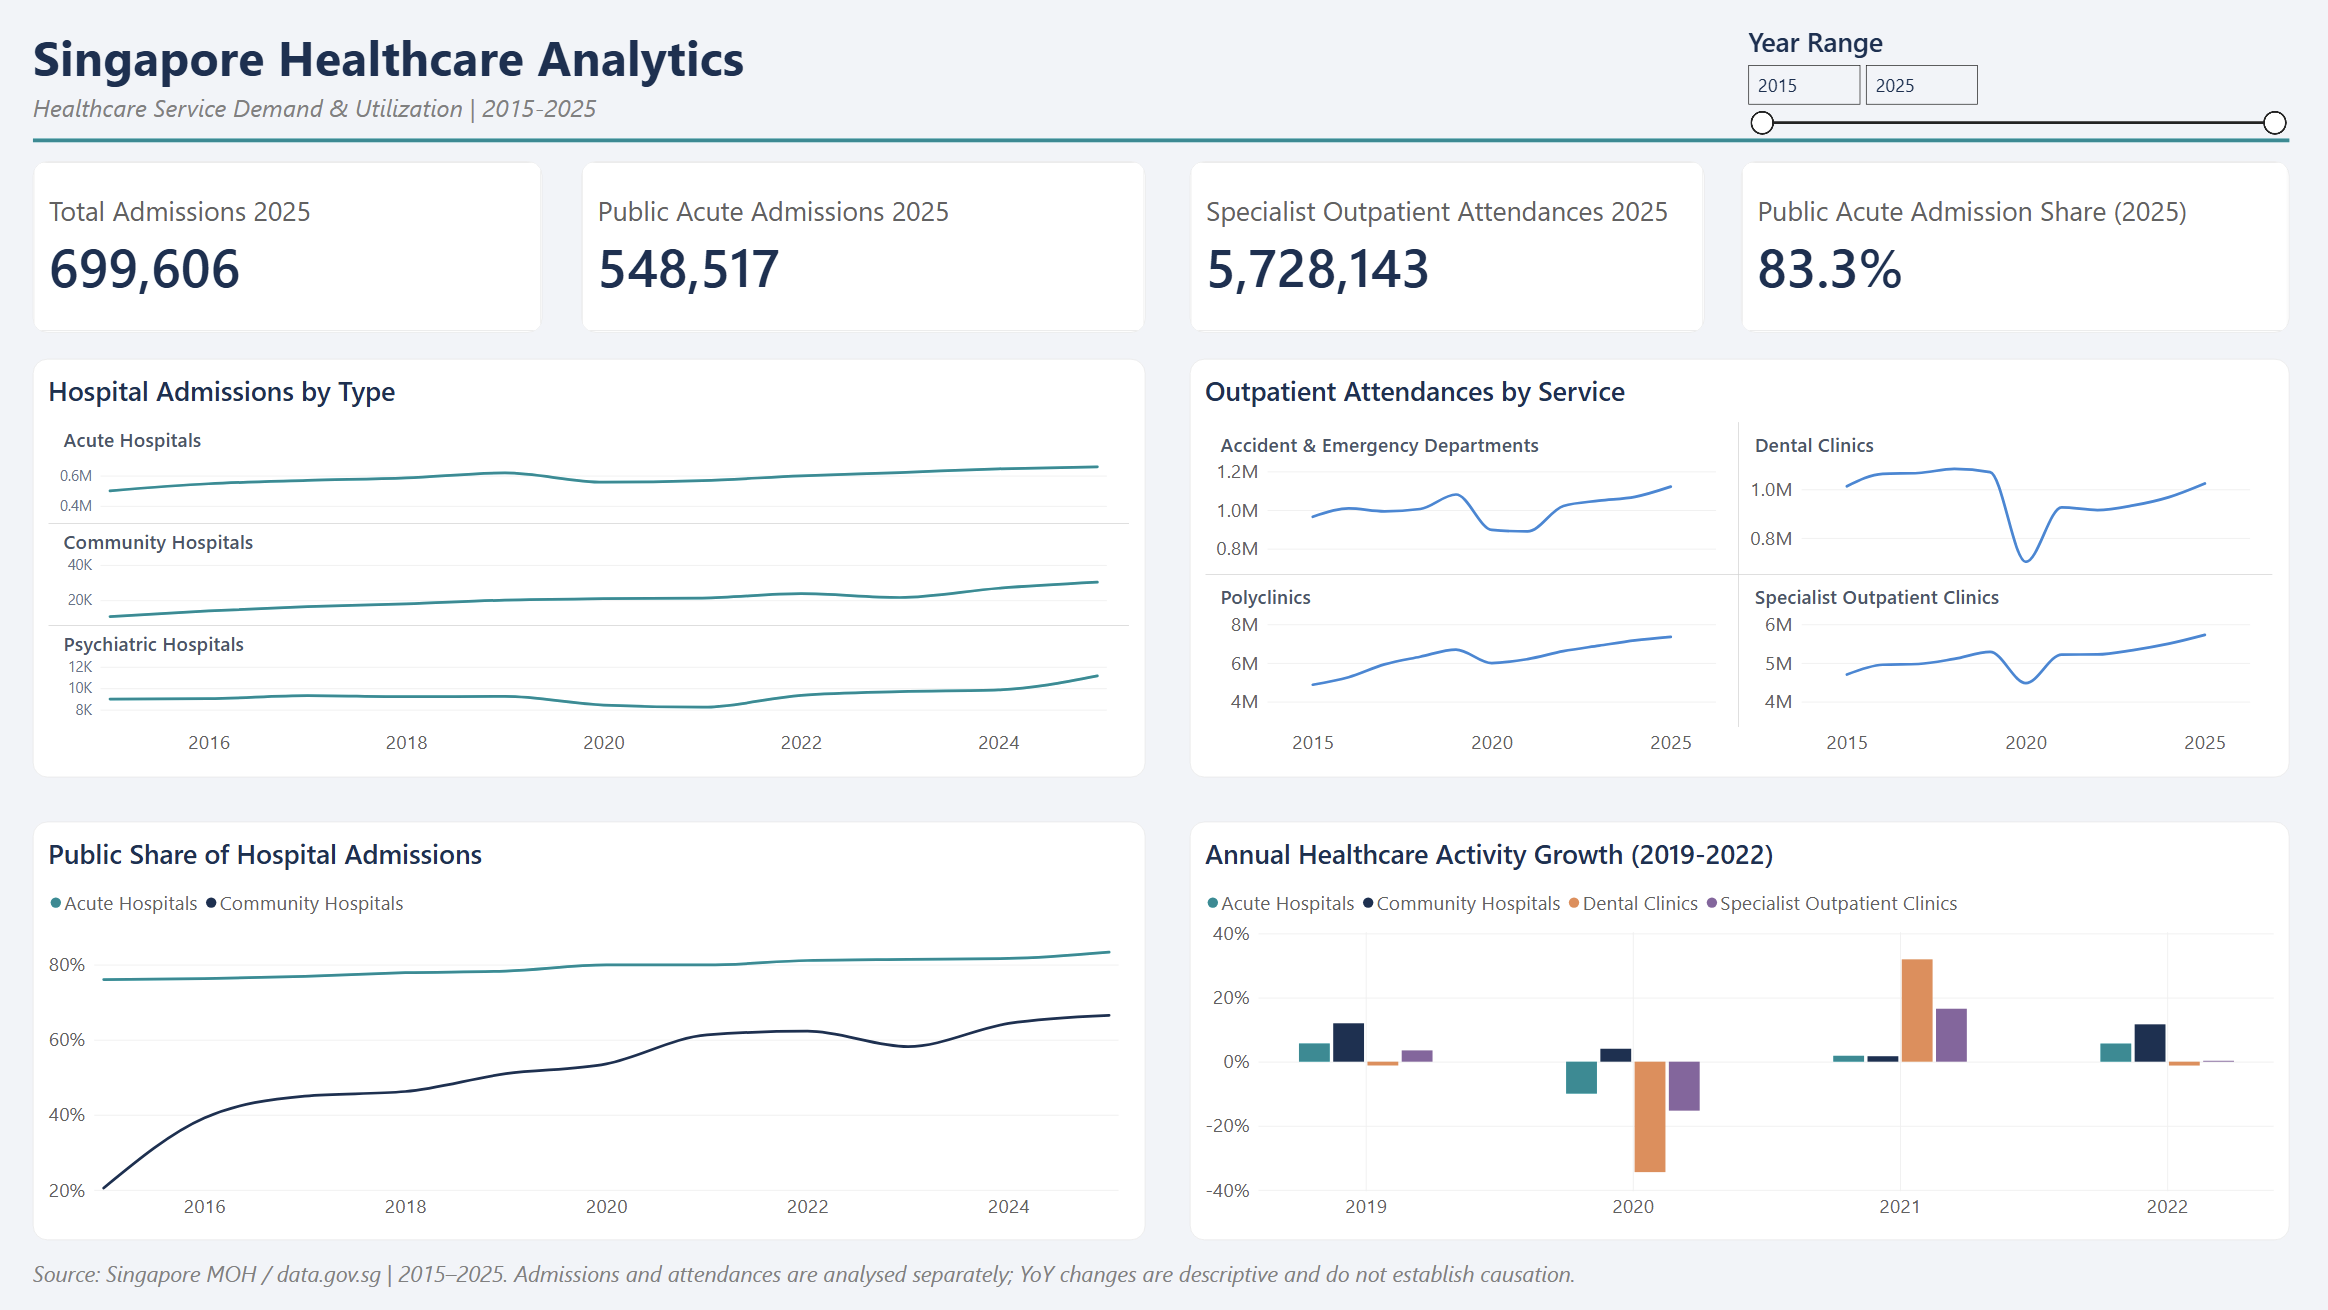

Layout of this report page (visuals, bound fields, positions):
{"tool":"powerbi","page":{"name":"Healthcare Service Demand","canvas":[2560,1440],"ordinal":0},"visuals":[{"type":"cardVisual","fields":{"Data":["Monthly Utilisation.Total Admissions 2025"]},"box":[0,90,640,210],"z":0},{"type":"cardVisual","fields":{"Data":["Monthly Utilisation.Public Acute Admissions 2025"]},"box":[640,90,640,210],"z":1000},{"type":"cardVisual","fields":{"Data":["Monthly Utilisation.Specialist Outpatient Attendances 2025"]},"box":[1280,90,640,210],"z":2000},{"type":"cardVisual","fields":{"Data":["Monthly Utilisation.Public Admission Share 2025"]},"box":[1920,90,640,210],"z":3000},{"type":"lineChart","title":"Hospital Admissions by Type (2015–2025)","fields":{"Category":["Year.Year"],"Rows":["Monthly Utilisation.service_category"],"Y":["Monthly Utilisation.Total Admissions"]},"box":[0,300,1280,530],"z":4000},{"type":"lineChart","title":"Outpatient Attendances by Service (2015–2025)","fields":{"Category":["Year.Year"],"Rows":["Monthly Utilisation.service_category"],"Y":["Monthly Utilisation.Outpatient Attendances"]},"box":[1280,300,1280,530],"z":5000},{"type":"lineChart","title":"Public Share of Hospital Admissions (2015–2025)","fields":{"Category":["Year.Year"],"Series":["Monthly Utilisation.service_category"],"Y":["Monthly Utilisation.Public Admission Share"]},"box":[0,830,1280,530],"z":6000},{"type":"clusteredColumnChart","title":"Annual Healthcare Activity Growth (2019–2022)","fields":{"Category":["Year.Year"],"Series":["Monthly Utilisation.service_category"],"Y":["Monthly Utilisation.Service YoY %"]},"box":[1280,830,1280,530],"z":7000},{"type":"textbox","box":[0,0,2560,90],"z":7001},{"type":"textbox","box":[0,1360,2560,80],"z":7002}]}

Visuals, with their boxes in screenshot pixels (x1, y1, x2, y2), scaled from the page's 2560x1440 canvas onto the 2328x1310 screenshot:
cardVisual - Monthly Utilisation.Total Admissions 2025: l=0, t=82, r=582, b=273
cardVisual - Monthly Utilisation.Public Acute Admissions 2025: l=582, t=82, r=1164, b=273
cardVisual - Monthly Utilisation.Specialist Outpatient Attendances 2025: l=1164, t=82, r=1746, b=273
cardVisual - Monthly Utilisation.Public Admission Share 2025: l=1746, t=82, r=2327, b=273
"Hospital Admissions by Type (2015–2025)" lineChart: l=0, t=273, r=1164, b=755
"Outpatient Attendances by Service (2015–2025)" lineChart: l=1164, t=273, r=2327, b=755
"Public Share of Hospital Admissions (2015–2025)" lineChart: l=0, t=755, r=1164, b=1237
"Annual Healthcare Activity Growth (2019–2022)" clusteredColumnChart: l=1164, t=755, r=2327, b=1237
textbox: l=0, t=0, r=2327, b=82
textbox: l=0, t=1237, r=2327, b=1309
